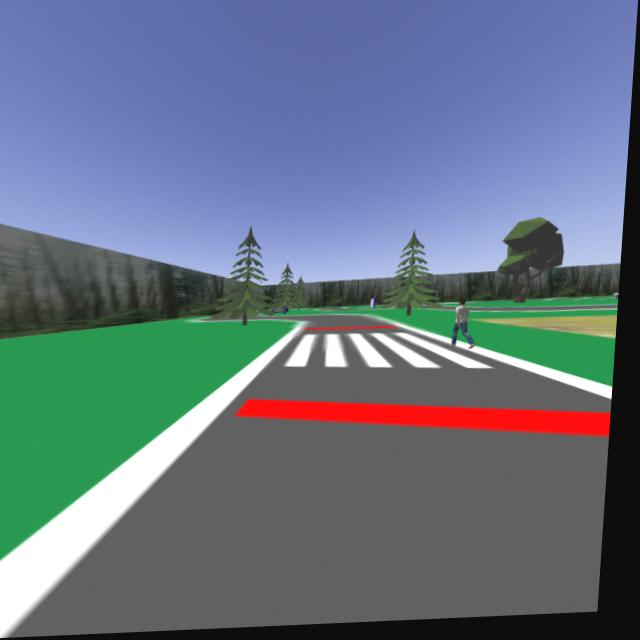pedestrian: (448, 295, 479, 350)
